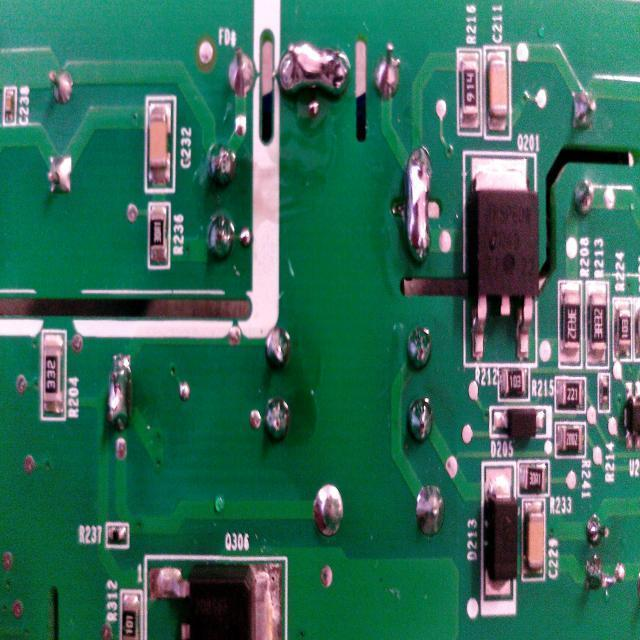Soldering shorted: (276, 39, 354, 114), (399, 135, 436, 270), (102, 358, 136, 440)
